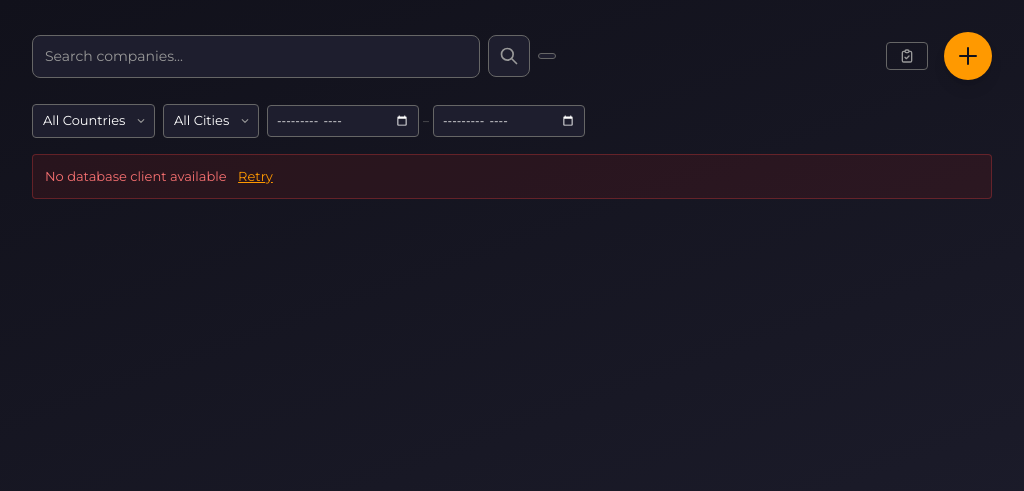
Test: Companies page - load error visibility › retries the load when the Retry button is clicked, clearing the error on success
What coordinates should you click on to do the following:
click the button "Retry"
I would click on:
 (255, 176)
Its box is [238, 166, 273, 186].
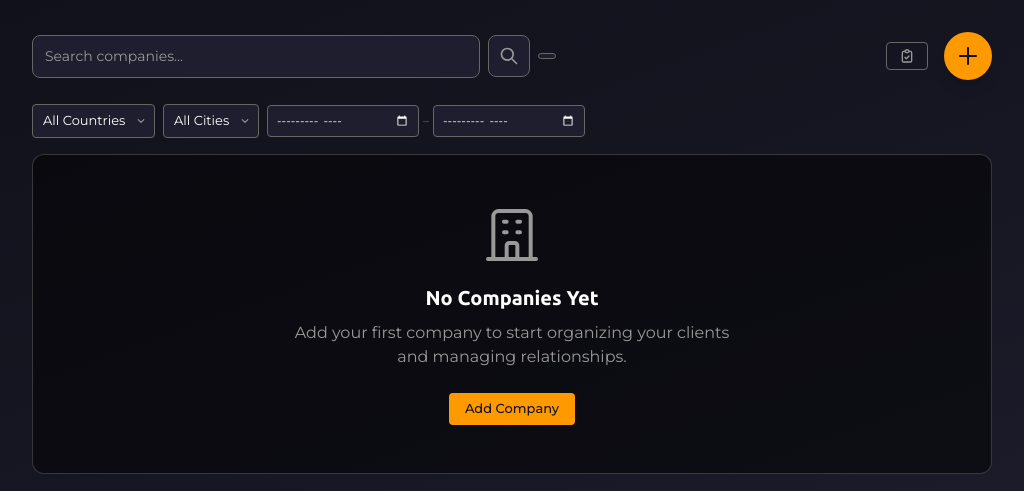
Check: the text "No database client available" is gone
Check: the heading "No Companies Yet" is shown, box [426, 282, 599, 312]
